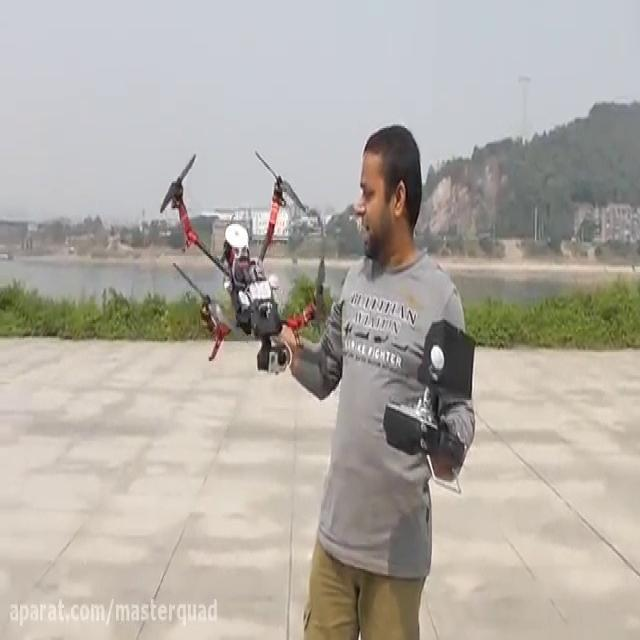drone: (162, 144, 329, 377)
